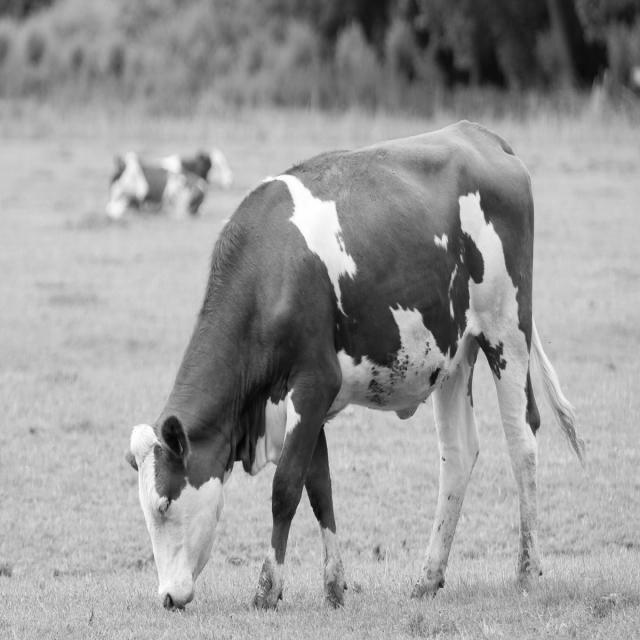cow: (126, 121, 581, 608)
